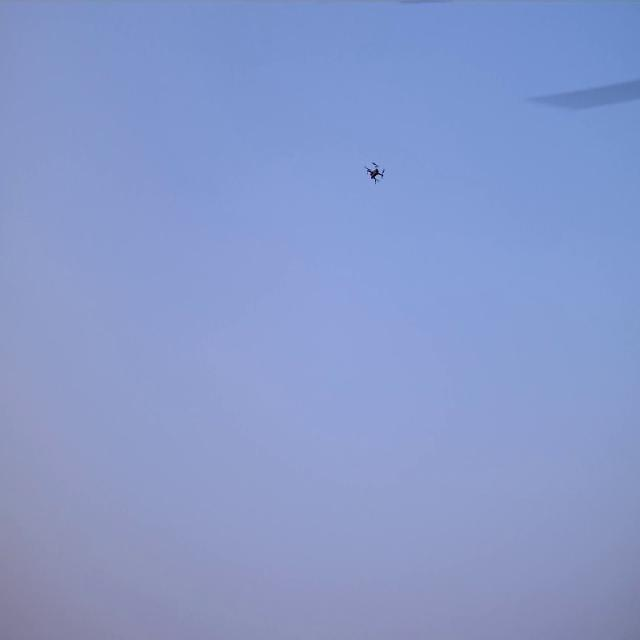UAV: (367, 163, 383, 183)
